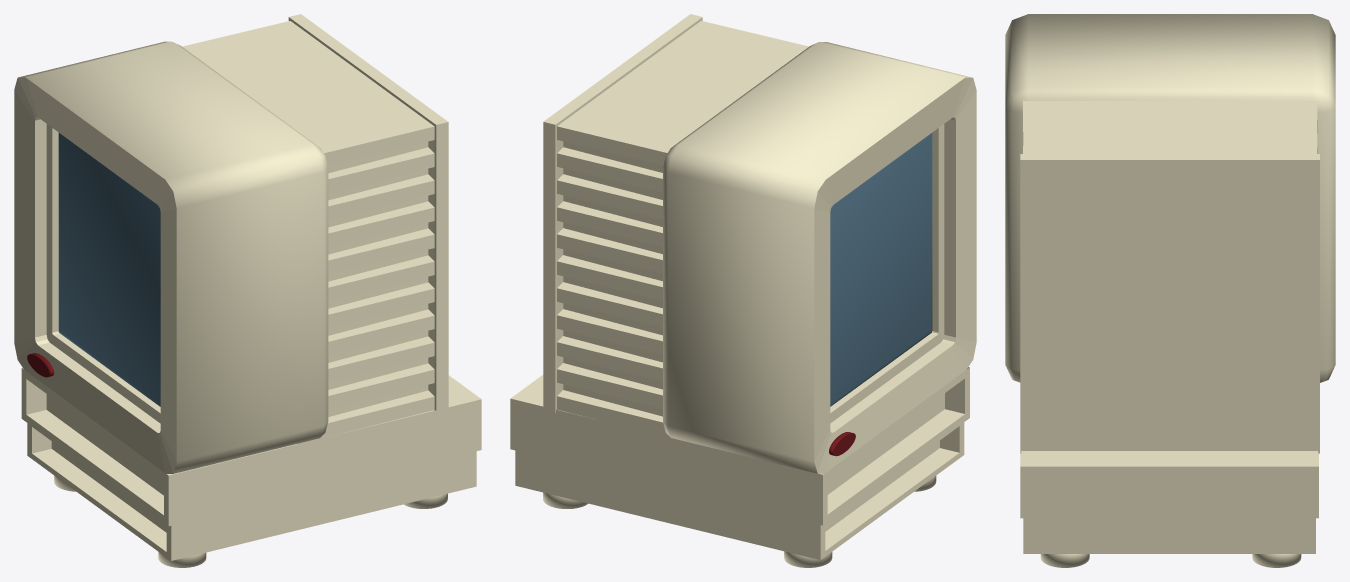
Rendered from monitor_tier6.fbx.
3 views of the same model, side by side, from view 1: azimuth 30°, elevation 25°; view 2: azimuth 150°, elevation 25°; view 3: azimuth 270°, elevation 25° (orthographic).
Visible parts, largest first — view 1: Cube.003; view 2: Cube.003; view 3: Cube.003.
Part boxes in pixels (left/top/right/bottom): Cube.003: left=14, top=14, right=481, bottom=567; Cube.003: left=510, top=14, right=976, bottom=567; Cube.003: left=1005, top=14, right=1335, bottom=567.
Size of the model in its own units: 0.6196 by 0.7507 by 0.5528.
